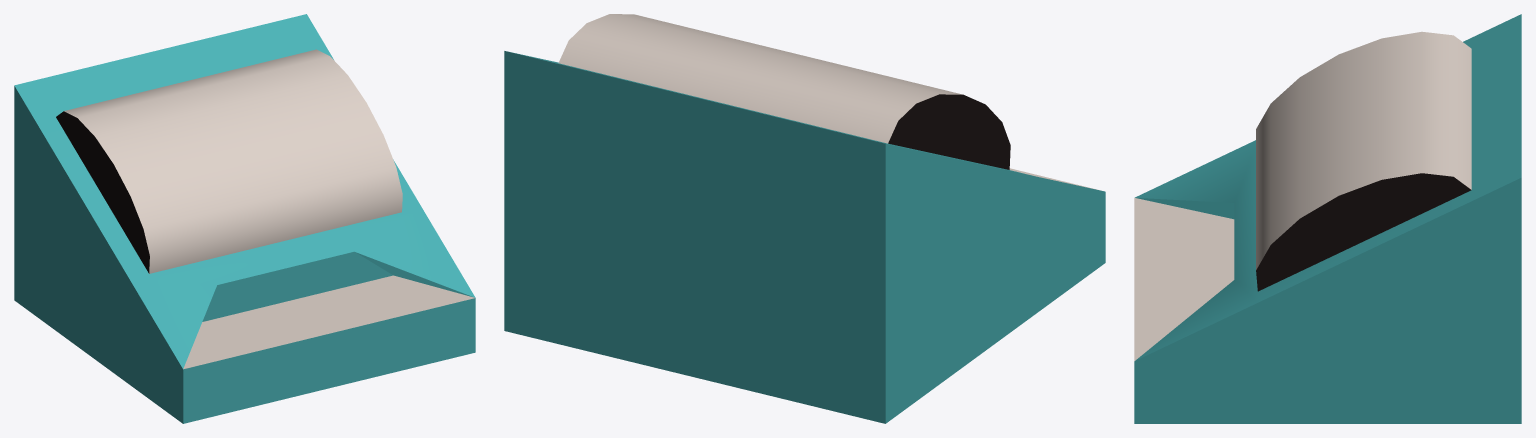
Rendered from 173_surveillance_system_control.glb.
3 views of the same model, side by side, from view 1: azimuth 30°, elevation 25°; view 2: azimuth 150°, elevation 25°; view 3: azimuth 270°, elevation 25° (orthographic). The views are drawn at different scales.
Parts seen in each view (by area): view 1: control; view 2: control; view 3: control.
Part boxes in pixels (x1,y1,x2,y2): control: (14, 14, 475, 423); control: (504, 14, 1105, 423); control: (1134, 14, 1521, 423).
Bounding box in the file's own units: 0.75 × 0.5266 × 0.75.
